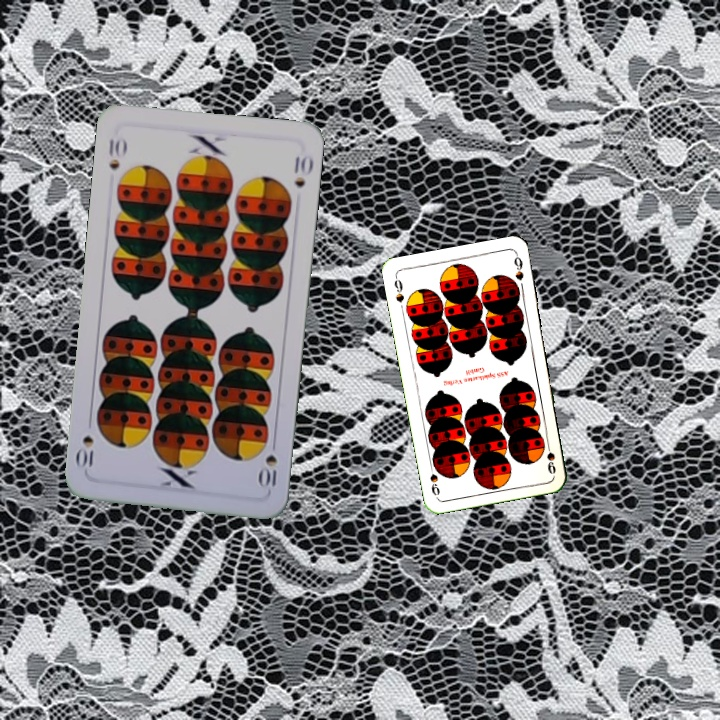S10: (257, 434, 279, 493), (105, 134, 122, 172)
S9: (543, 436, 559, 477), (390, 272, 407, 305)
